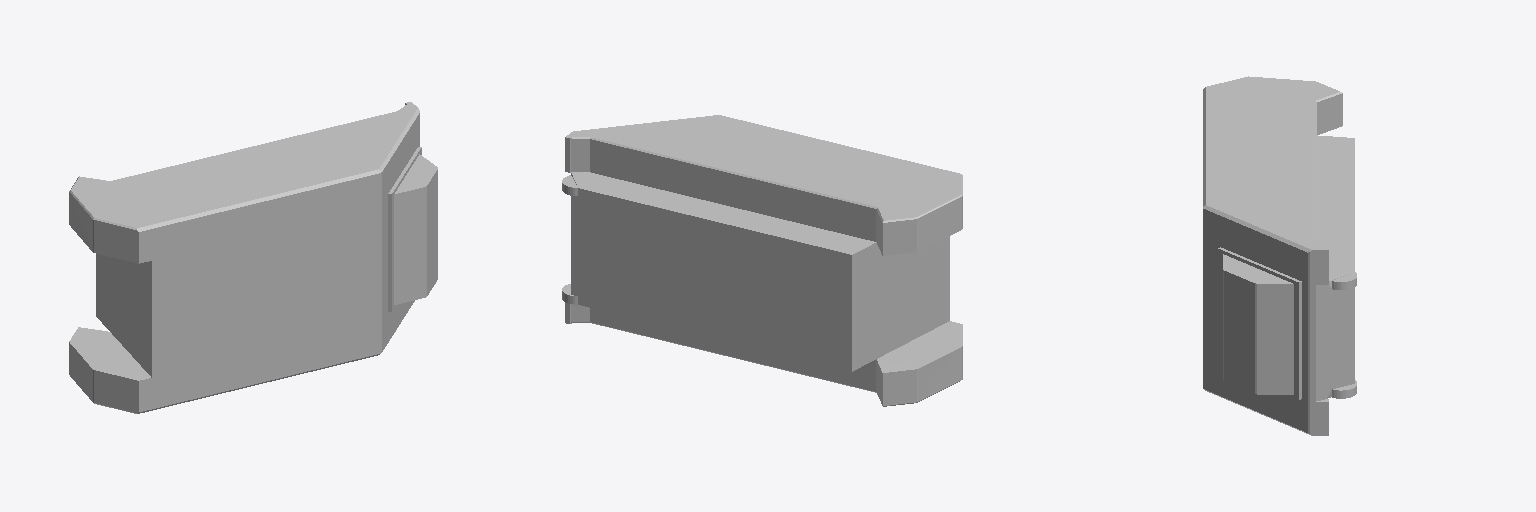
The model's file is Chassis_Hulls.obj.
The picture shows the model from 3 angles: view 1: azimuth 30°, elevation 25°; view 2: azimuth 150°, elevation 25°; view 3: azimuth 270°, elevation 25°; orthographic projection.
Visible parts, largest first — view 1: Object_1_Mesh, Object_1_Mesh.011_Object_1_Mesh.016, Object_1_Mesh.009_Object_1_Mesh.013, Object_1_Mesh.004_Object_1_Mesh.007, Object_1_Mesh.006_Object_1_Mesh.012, Object_1_Mesh.008_Object_1_Mesh.011, Object_1_Mesh.001; view 2: Object_1_Mesh, Object_1_Mesh.011_Object_1_Mesh.016, Object_1_Mesh.009_Object_1_Mesh.013, Object_1_Mesh.008_Object_1_Mesh.011, Object_1_Mesh.006_Object_1_Mesh.012, Object_1_Mesh.010_Object_1_Mesh.015; view 3: Object_1_Mesh.011_Object_1_Mesh.016, Object_1_Mesh, Object_1_Mesh.004_Object_1_Mesh.007, Object_1_Mesh.008_Object_1_Mesh.011, Object_1_Mesh.009_Object_1_Mesh.013, Object_1_Mesh.001, Object_1_Mesh.010_Object_1_Mesh.015, Object_1_Mesh.005_Object_1_Mesh.014.
Boxes of the visible parts, <box> form: Object_1_Mesh: <box>96,145,419,377</box>; Object_1_Mesh.011_Object_1_Mesh.016: <box>111,110,419,263</box>; Object_1_Mesh.009_Object_1_Mesh.013: <box>111,300,414,413</box>; Object_1_Mesh.004_Object_1_Mesh.007: <box>394,154,437,304</box>; Object_1_Mesh.006_Object_1_Mesh.012: <box>69,327,138,413</box>; Object_1_Mesh.008_Object_1_Mesh.011: <box>69,176,138,263</box>; Object_1_Mesh.001: <box>388,147,421,311</box>; Object_1_Mesh: <box>571,172,949,371</box>; Object_1_Mesh.011_Object_1_Mesh.016: <box>579,115,959,241</box>; Object_1_Mesh.009_Object_1_Mesh.013: <box>590,308,961,392</box>; Object_1_Mesh.008_Object_1_Mesh.011: <box>876,174,962,255</box>; Object_1_Mesh.006_Object_1_Mesh.012: <box>876,324,962,406</box>; Object_1_Mesh.010_Object_1_Mesh.015: <box>565,131,589,172</box>; Object_1_Mesh.011_Object_1_Mesh.016: <box>1203,87,1316,283</box>; Object_1_Mesh: <box>1203,135,1354,401</box>; Object_1_Mesh.004_Object_1_Mesh.007: <box>1223,254,1293,394</box>; Object_1_Mesh.008_Object_1_Mesh.011: <box>1207,76,1342,134</box>; Object_1_Mesh.009_Object_1_Mesh.013: <box>1203,357,1307,433</box>; Object_1_Mesh.001: <box>1218,247,1301,399</box>; Object_1_Mesh.010_Object_1_Mesh.015: <box>1308,241,1328,284</box>; Object_1_Mesh.005_Object_1_Mesh.014: <box>1308,399,1328,435</box>.
Size of the model in its own units: 5.4 by 2.69 by 2.03.